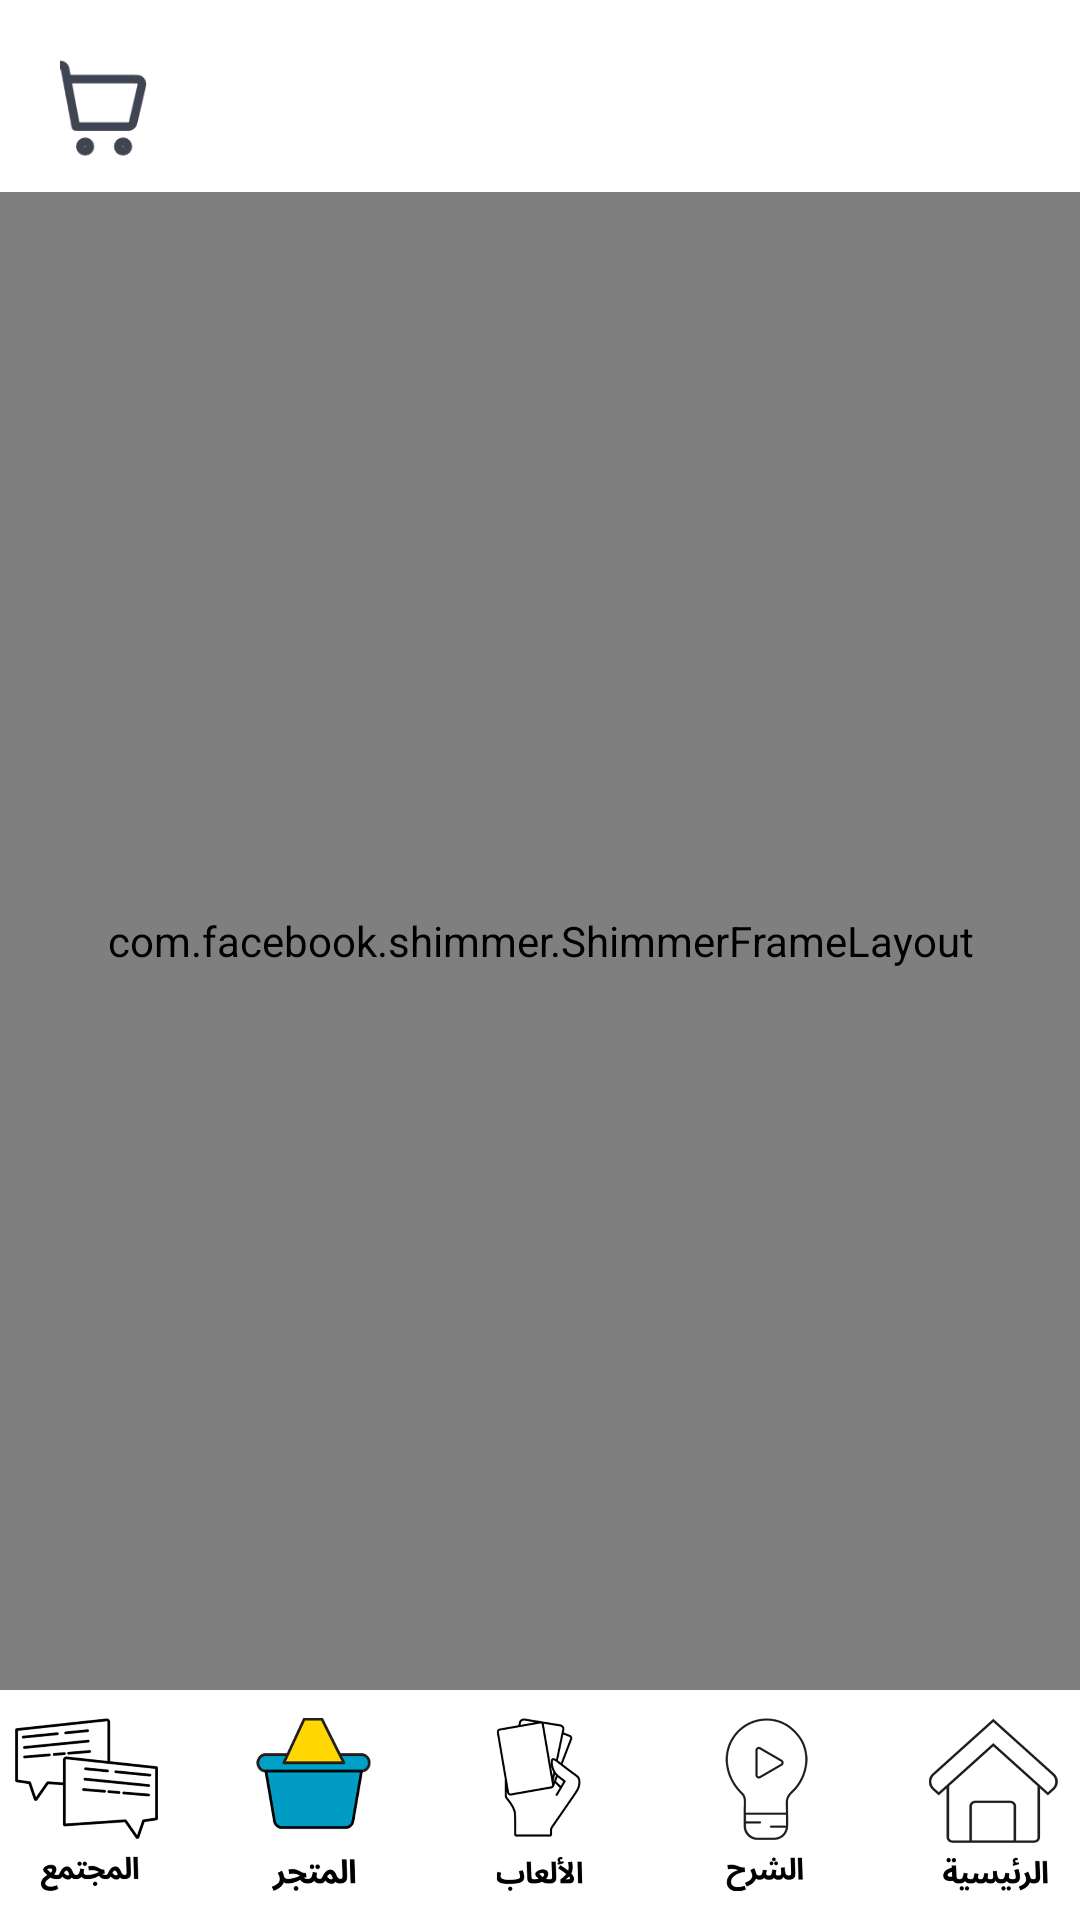

Icon bounding boxes for this 1080×1920 phone screenshot, format (x1, y1, x2, y2):
cart: (60, 60, 147, 156)
